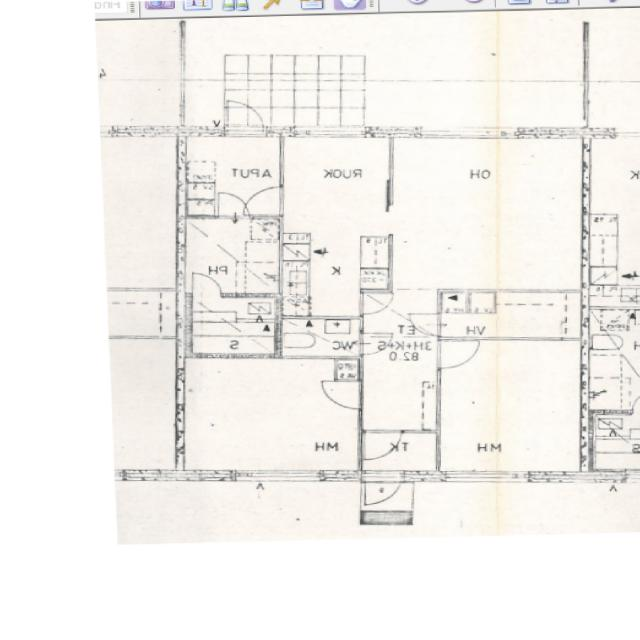door: (366, 471, 400, 508), (229, 101, 263, 137), (319, 381, 362, 409), (241, 187, 282, 216), (365, 431, 402, 460), (436, 342, 476, 368), (218, 193, 249, 219), (408, 314, 440, 336), (193, 273, 221, 298), (357, 334, 390, 355), (358, 294, 390, 314)
